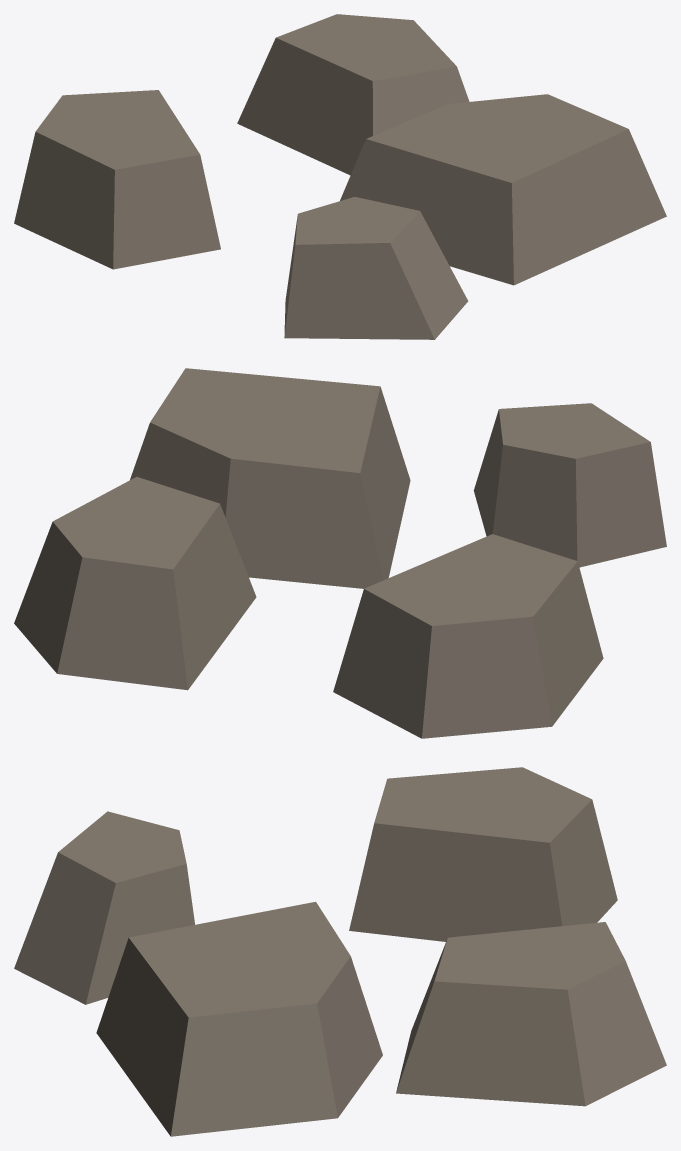
Rendered from SM_Env_Pebbles_02.fbx.
The picture shows the model from 3 angles, top to bottom: view 1: azimuth 30°, elevation 25°; view 2: azimuth 150°, elevation 25°; view 3: azimuth 270°, elevation 25°; orthographic projection. The views are drawn at different scales.
Visible parts, largest first — view 1: SM_Env_Pebbles_02; view 2: SM_Env_Pebbles_02; view 3: SM_Env_Pebbles_02.
Part boxes in pixels (x1,y1,x2,y2): SM_Env_Pebbles_02: (14,14,666,339); SM_Env_Pebbles_02: (14,368,666,738); SM_Env_Pebbles_02: (14,767,666,1136).
Size of the model in its own units: 89.28 by 15.3 by 88.64.
